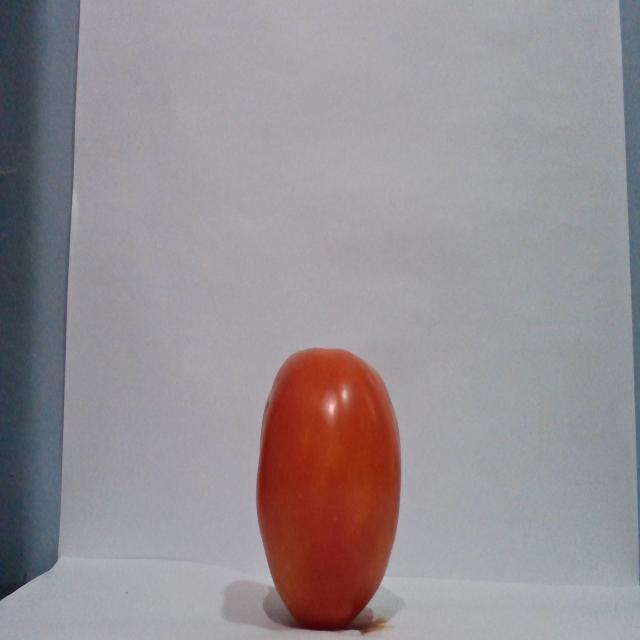Red: (254, 345, 402, 629)
